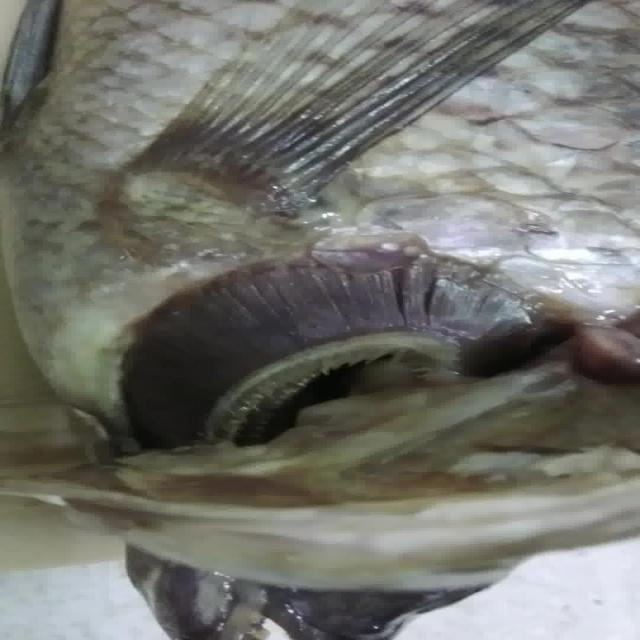Non-Fresh: (107, 239, 551, 434)
